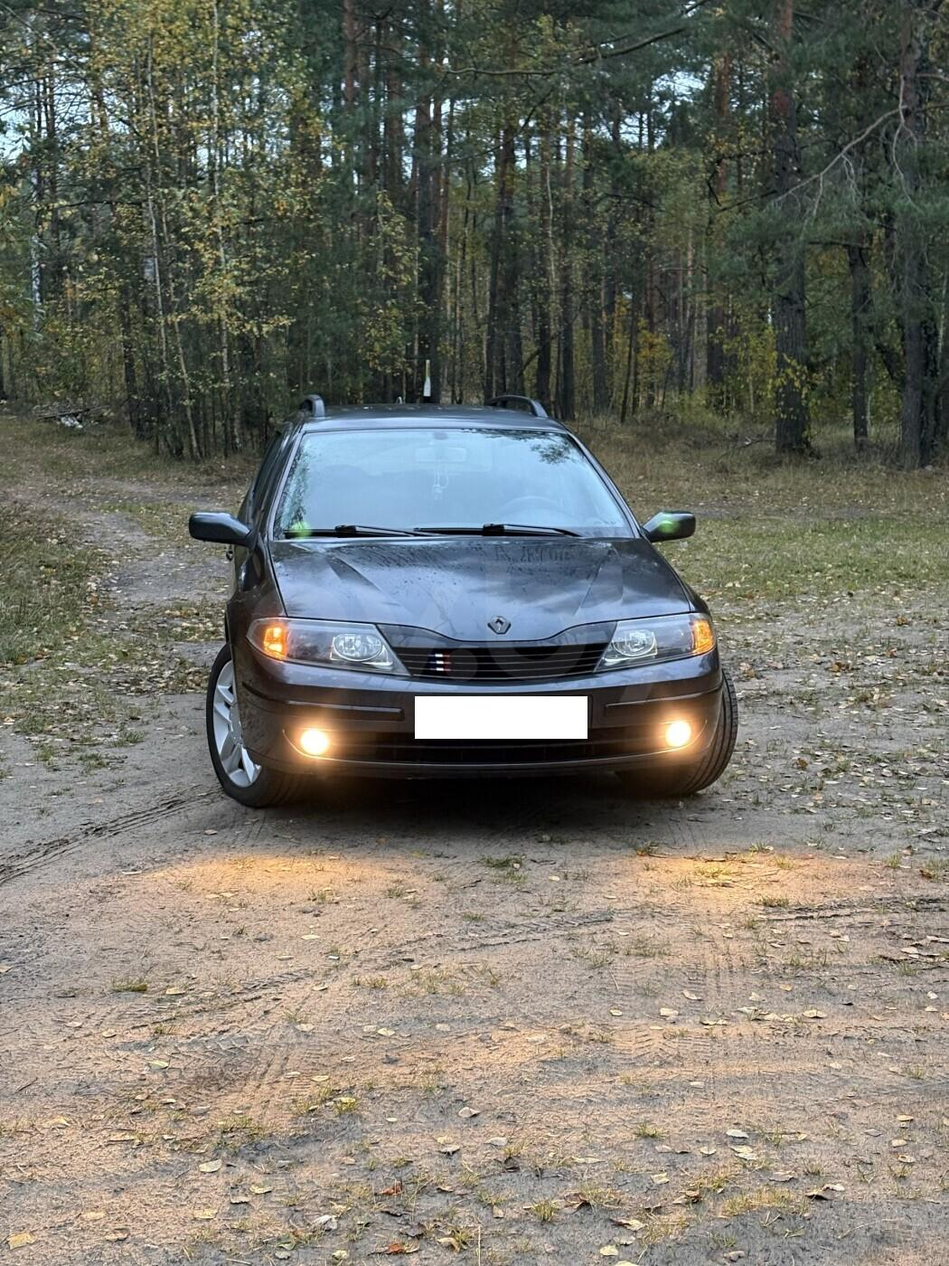Laguna_2001-2005: (191, 406, 737, 807)
